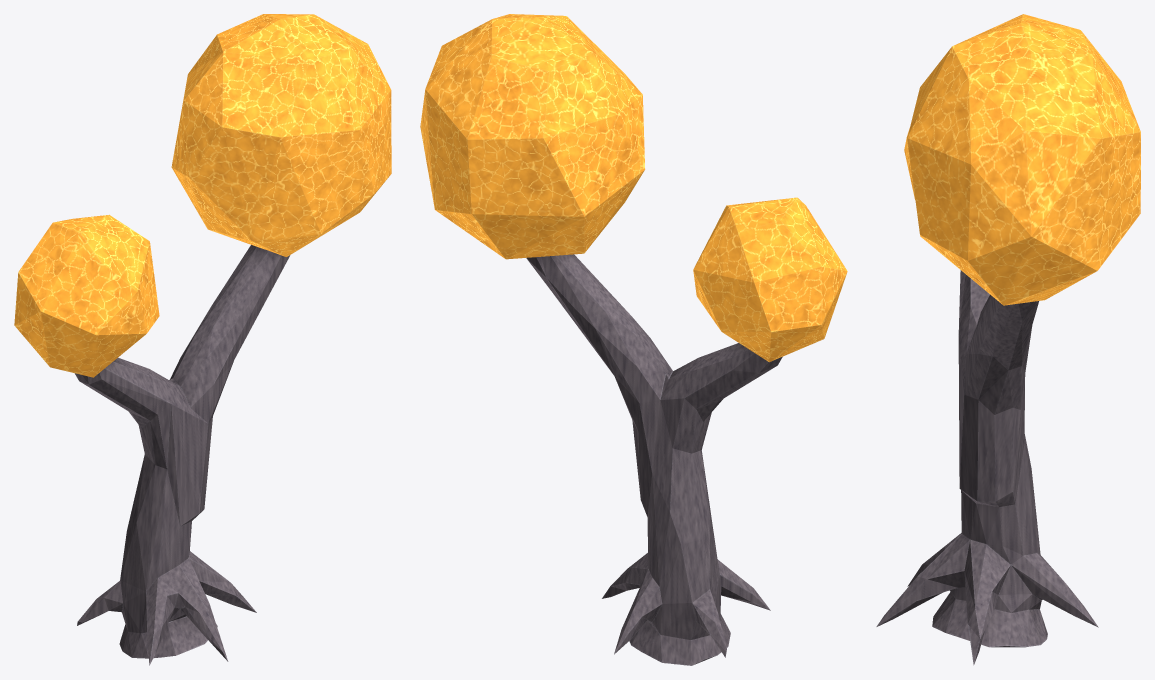
File: underworld-flora-fungal-puffcap-forked.glb
3 renders of one model, left to right at view 1: azimuth 30°, elevation 25°; view 2: azimuth 150°, elevation 25°; view 3: azimuth 270°, elevation 25°, orthographic. The views are drawn at different scales.
Visible parts, largest first — view 1: puffs, fused-stalk; view 2: puffs, fused-stalk; view 3: puffs, fused-stalk.
Part boxes in pixels (<box>): puffs: <box>14,14,391,377</box>; fused-stalk: <box>75,245,290,665</box>; puffs: <box>420,14,847,362</box>; fused-stalk: <box>526,254,782,665</box>; puffs: <box>904,14,1140,305</box>; fused-stalk: <box>876,270,1098,665</box>.
Bounding box in the file's own units: 4.92 × 7.28 × 2.53.
2 materials, 2 textured.
